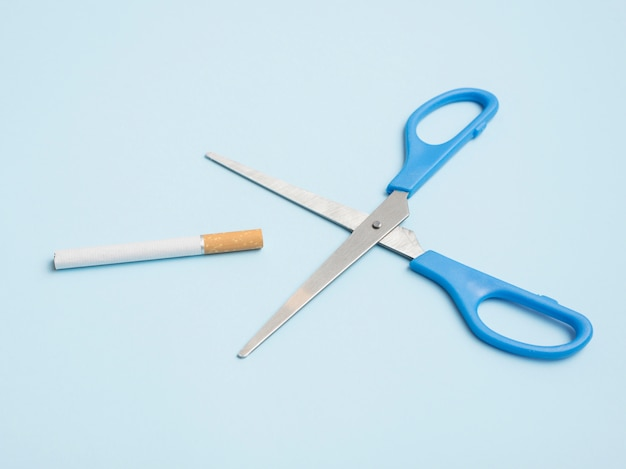cigarette: (52, 226, 267, 271)
